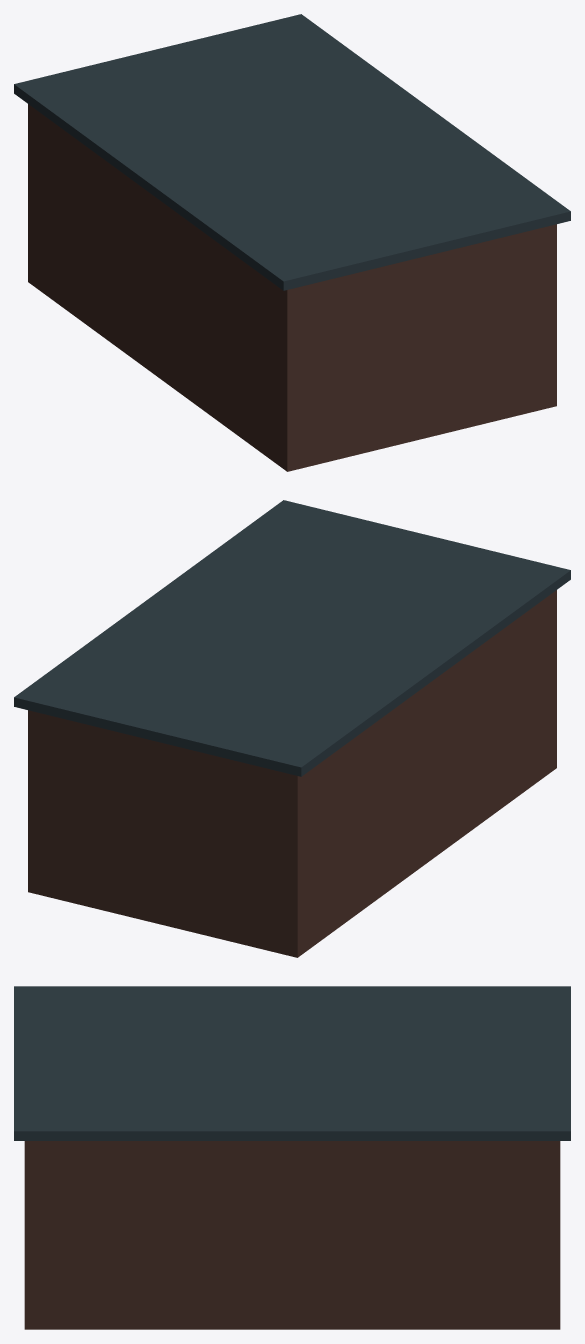
The model's file is station-counter-authored-vertex-colour-tripo-finish.glb.
3 views of the same model, one above another, from view 1: azimuth 30°, elevation 25°; view 2: azimuth 150°, elevation 25°; view 3: azimuth 270°, elevation 25° (orthographic). The views are drawn at different scales.
Visible parts, largest first — view 1: Authored_surface_011; view 2: Authored_surface_011; view 3: Authored_surface_011.
Part boxes in pixels (x1,y1,x2,y2): Authored_surface_011: (14, 14, 570, 471); Authored_surface_011: (14, 500, 570, 957); Authored_surface_011: (14, 986, 570, 1329).
Bounding box in the file's own units: 0.6154 × 0.4019 × 1.
